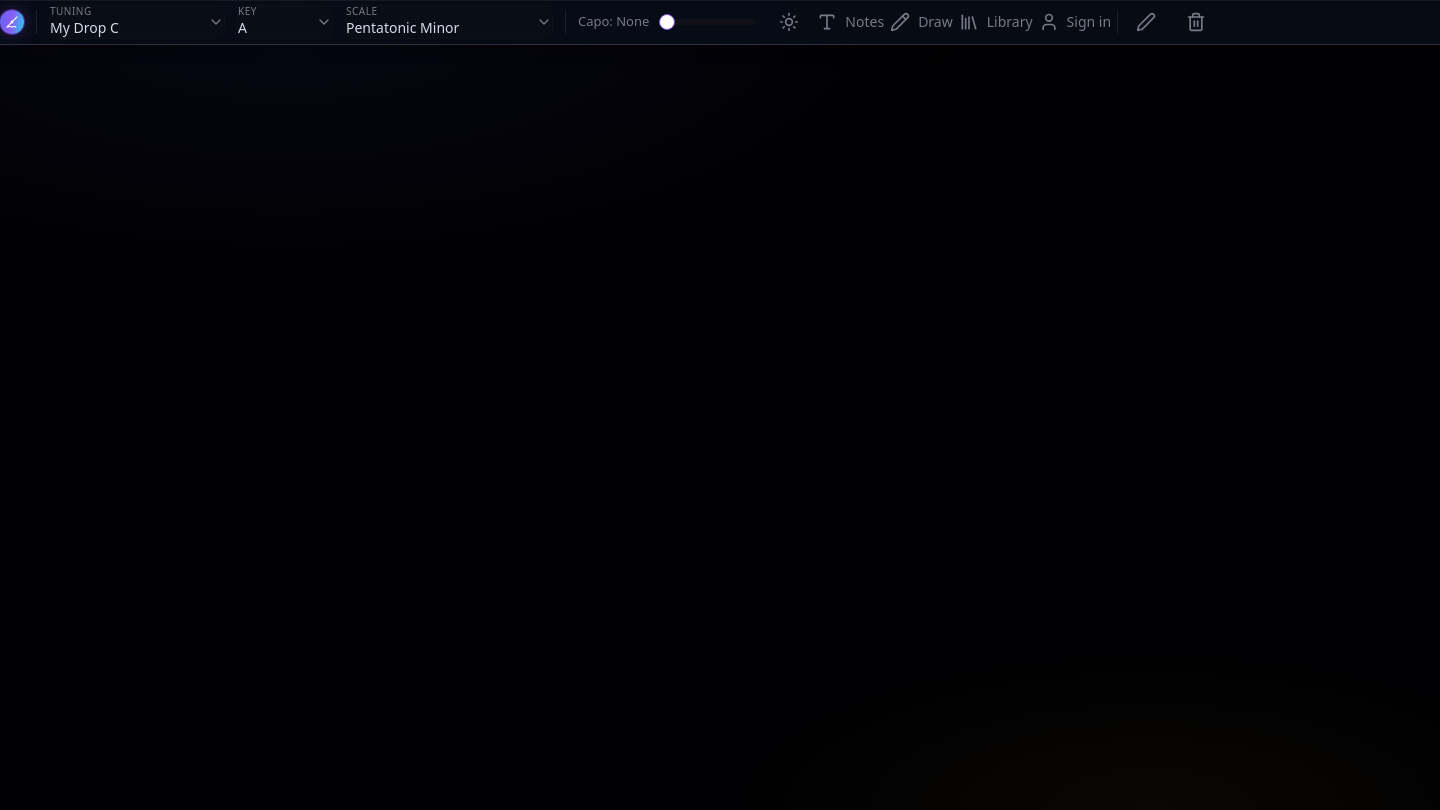
ControlBar — rename/delete actions (Task 9) › rename: opens a sheet with the current name prefilled
Click the button named "Rename tuning".
click(1146, 22)  # box [1124,0,1168,44]
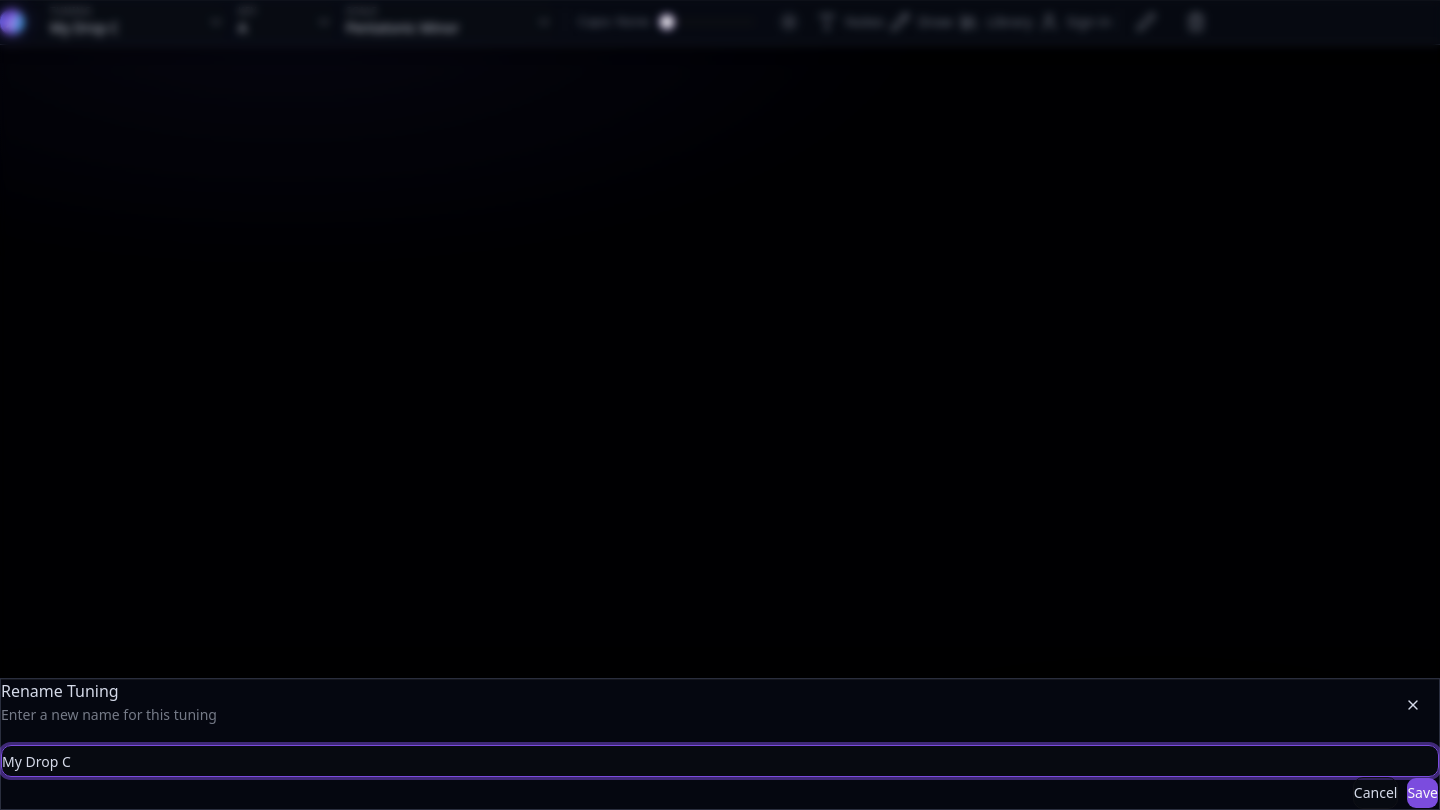
Check: the field with placeholder "New tuning name" holds "My Drop C", box [1,745,1439,777]
